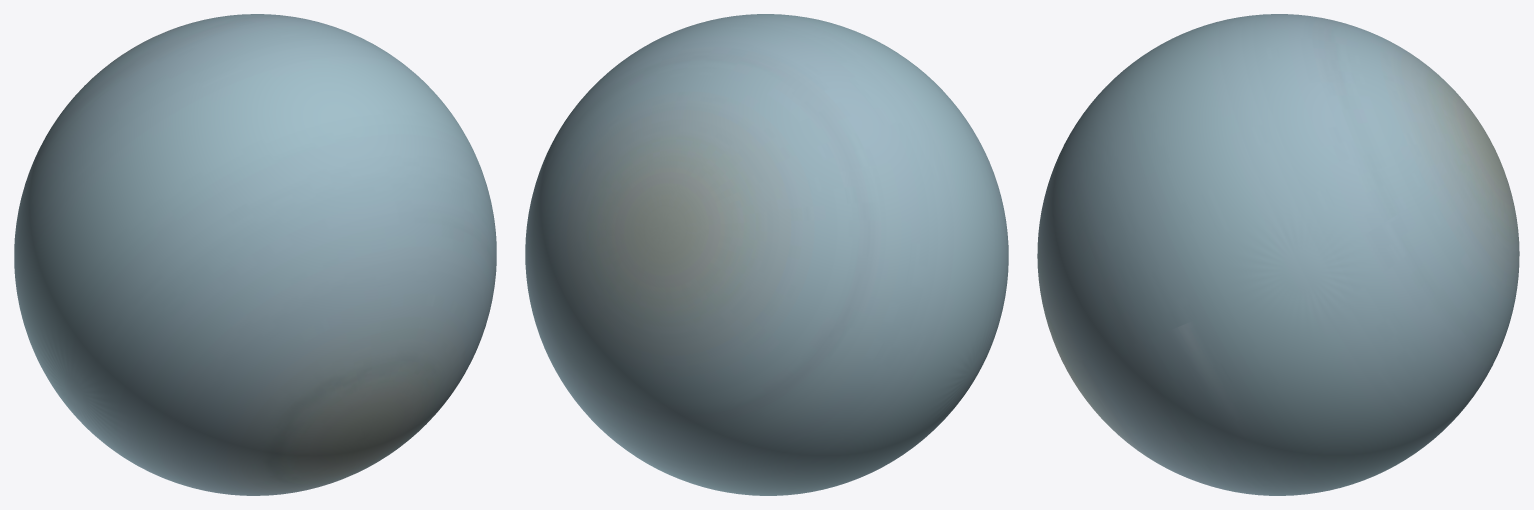
File: URANUS.obj
3 views of the same model, side by side, from view 1: azimuth 30°, elevation 25°; view 2: azimuth 150°, elevation 25°; view 3: azimuth 270°, elevation 25° (orthographic).
Parts seen in each view (by area): view 1: Sphere.001; view 2: Sphere.001; view 3: Sphere.001.
Part boxes in pixels (bbox=[...]): Sphere.001: bbox=[14, 14, 496, 495]; Sphere.001: bbox=[525, 14, 1008, 495]; Sphere.001: bbox=[1037, 14, 1519, 495].
Size of the model in its own units: 4.04 by 4.02 by 4.02.
2 materials, 1 textured.
